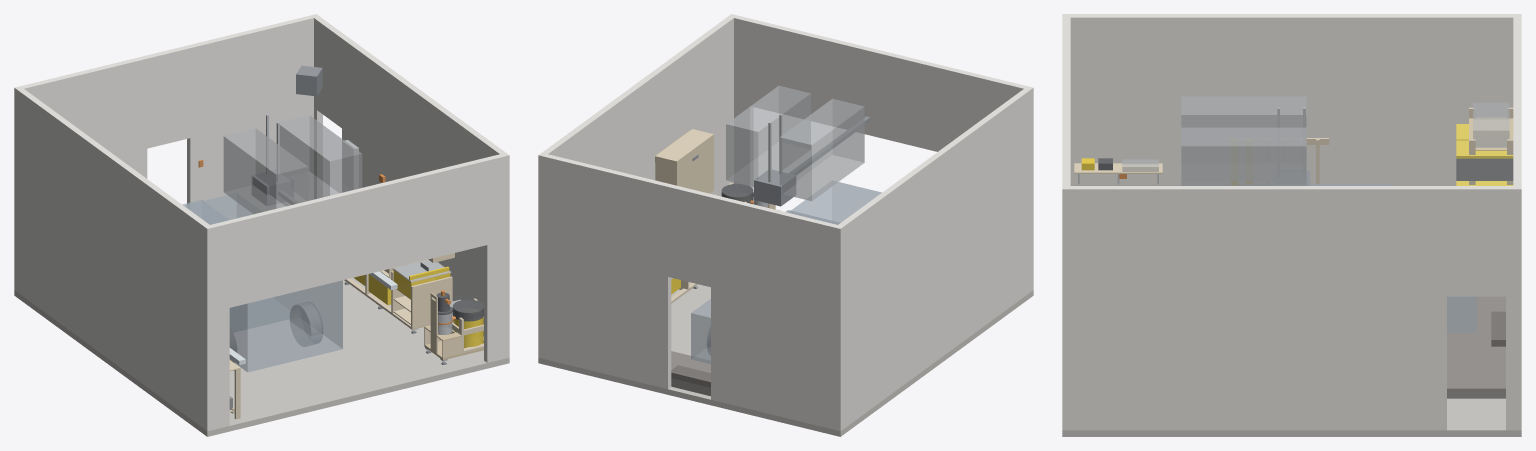
File: garage-shop-forester.glb
The picture shows the model from 3 angles, left to right: view 1: azimuth 30°, elevation 25°; view 2: azimuth 150°, elevation 25°; view 3: azimuth 270°, elevation 25°; orthographic projection. The views are drawn at different scales.
Parts seen in each view (by area): view 1: Wall West/west wall, Wall North/north wall, Wall South/door header, Slab/slab, Wall East/east wall, Truck/cargo, Bike Hoists/bike 1, Wall South/south return west, Bike Hoists/bike 2, Wall South/south return east, Truck/cabin, Flip Bench/end panel S (+7 smaller); view 2: Wall North/north wall, Wall West/west wall, Wall South/door header, Wall East/east wall, Bike Hoists/bike 1, Bike Hoists/bike 2, Slab/slab, Wall South/south return east, Truck/cargo, Garage Opener/motor, Truck/hood, Wall South/south return west (+7 smaller); view 3: Wall East/east wall, Wall West/west wall, Bike Hoists/bike 1, Bike Hoists/bike 2, Landing/landing, Slab/slab, Wall North/north wall, Wall South/south return east, Bulk Rack/light bins, Bulk Rack/shelf 4, Wall South/door header, Bulk Rack/tote 3-2 (+6 smaller).
Boxes of the visible parts, x1,y1,x2,y2 form: Wall West/west wall: [18, 89, 209, 428]; Wall North/north wall: [14, 14, 319, 292]; Wall South/door header: [226, 158, 487, 307]; Slab/slab: [14, 277, 509, 436]; Wall East/east wall: [314, 16, 505, 335]; Truck/cargo: [229, 280, 342, 372]; Bike Hoists/bike 1: [223, 128, 308, 214]; Wall South/south return west: [204, 221, 229, 431]; Bike Hoists/bike 2: [279, 115, 362, 200]; Wall South/south return east: [484, 153, 509, 362]; Truck/cabin: [184, 193, 298, 332]; Flip Bench/end panel S: [411, 276, 452, 327]; Wall North/north wall: [538, 153, 843, 431]; Wall West/west wall: [838, 89, 1029, 428]; Wall South/door header: [750, 19, 1010, 151]; Wall East/east wall: [542, 16, 733, 196]; Bike Hoists/bike 1: [779, 98, 864, 201]; Bike Hoists/bike 2: [726, 85, 810, 186]; Slab/slab: [538, 282, 1033, 436]; Wall South/south return east: [728, 14, 753, 198]; Truck/cargo: [788, 181, 881, 224]; Garage Opener/motor: [754, 169, 796, 206]; Truck/hood: [691, 299, 710, 364]; Wall South/south return west: [1008, 82, 1033, 292]; Wall East/east wall: [1070, 186, 1513, 430]; Wall West/west wall: [1070, 14, 1513, 185]; Bike Hoists/bike 1: [1181, 96, 1306, 181]; Bike Hoists/bike 2: [1181, 127, 1306, 185]; Landing/landing: [1447, 296, 1505, 398]; Slab/slab: [1062, 398, 1521, 436]; Wall North/north wall: [1513, 14, 1521, 430]; Wall South/south return east: [1062, 176, 1070, 430]; Bulk Rack/light bins: [1473, 102, 1509, 147]; Bulk Rack/shelf 4: [1469, 117, 1513, 150]; Wall South/door header: [1062, 27, 1070, 176]; Bulk Rack/tote 3-2: [1456, 158, 1513, 180].
Bounding box in the file's own units: 225 × 148 × 249.
